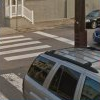crosswalk: (0, 34, 52, 61), (0, 71, 24, 100)
